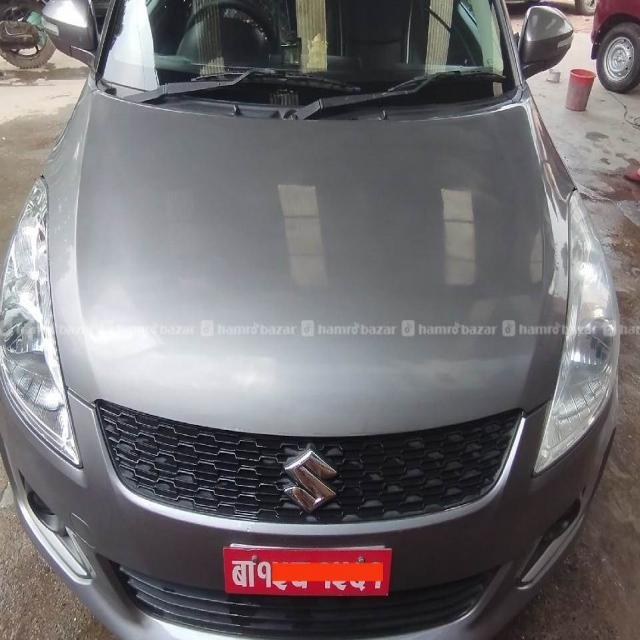License-plate: (217, 542, 394, 598)
